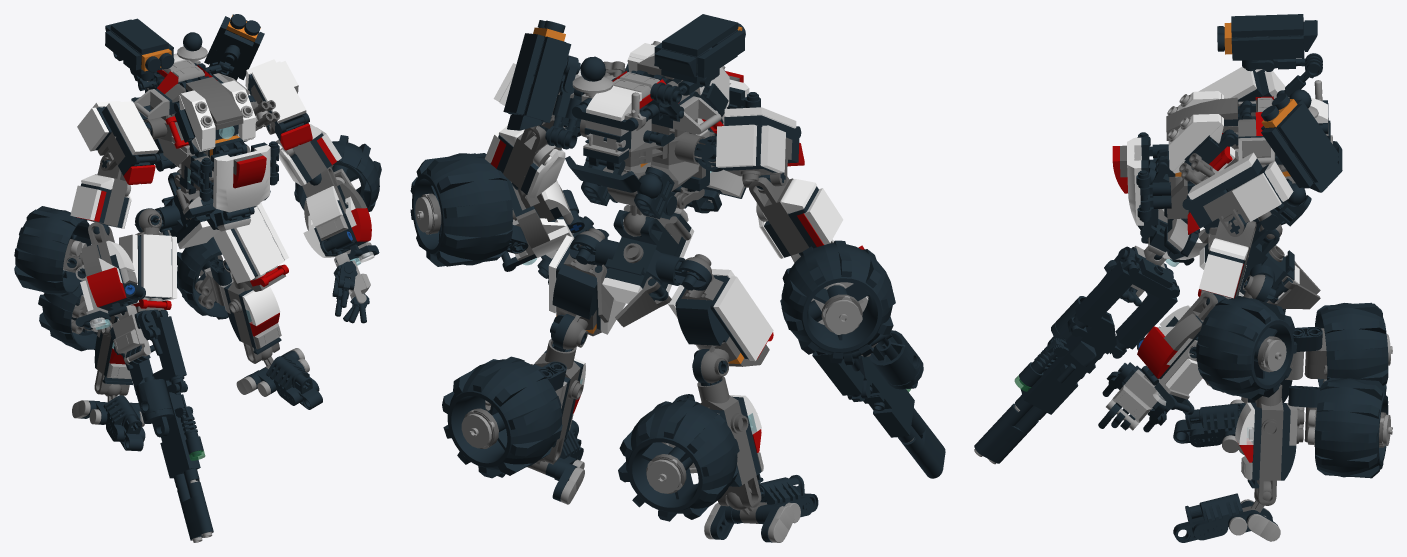
The model's file is rv-6294-strider-titan.dae.
3 renders of one model, left to right at view 1: azimuth 30°, elevation 25°; view 2: azimuth 150°, elevation 25°; view 3: azimuth 270°, elevation 25°, orthographic. The views are drawn at different scales.
Size of the model in its own units: 543 by 466 by 584.
